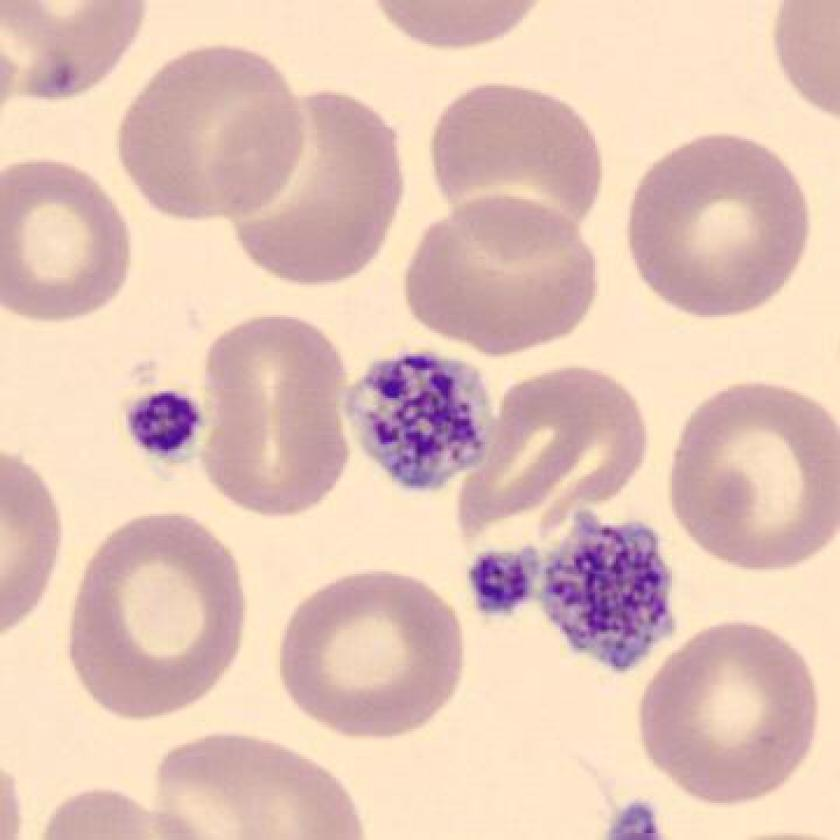platelets: (524, 499, 694, 682), (332, 337, 510, 496), (115, 367, 216, 473), (452, 533, 543, 626)
